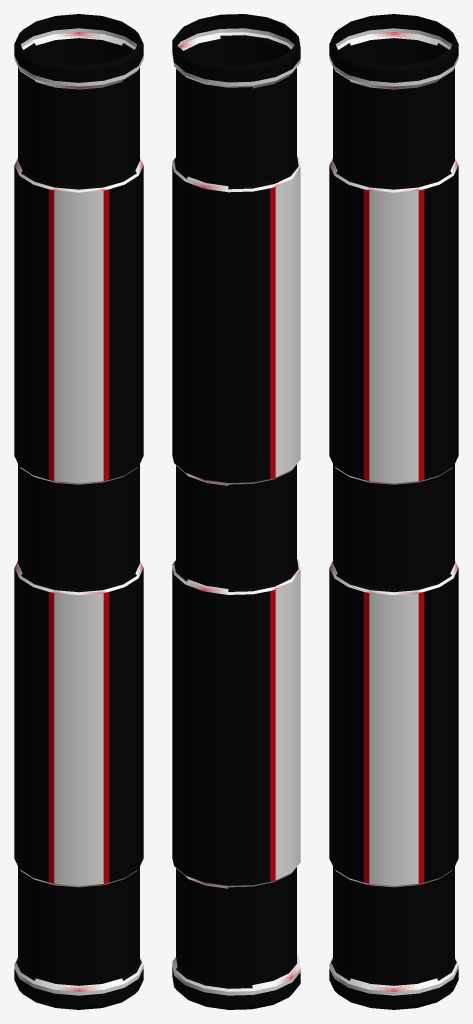
The model's file is part_main-lod0.dae.
3 views of the same model, side by side, from view 1: azimuth 90°, elevation 25°; view 2: azimuth 150°, elevation 25°; view 3: azimuth 270°, elevation 25° (orthographic).
Parts seen in each view (by area): view 1: part_main-lod0Xlod0Xp2genericXgen_p2_hulltexture_02, part_main-lod0Xlod0Xp2genericXgen_p2_hulltexture_02_c, part_main-lod0Xlod0Xp2multimatXp2_multimat_01; view 2: part_main-lod0Xlod0Xp2multimatXp2_multimat_01, part_main-lod0Xlod0Xp2genericXgen_p2_hulltexture_02, part_main-lod0Xlod0Xp2genericXgen_p2_hulltexture_02_c; view 3: part_main-lod0Xlod0Xp2genericXgen_p2_hulltexture_02, part_main-lod0Xlod0Xp2genericXgen_p2_hulltexture_02_c, part_main-lod0Xlod0Xp2multimatXp2_multimat_01.
Part boxes in pixels (<box>): part_main-lod0Xlod0Xp2genericXgen_p2_hulltexture_02: <box>14,14,143,1009</box>; part_main-lod0Xlod0Xp2genericXgen_p2_hulltexture_02_c: <box>14,28,143,995</box>; part_main-lod0Xlod0Xp2multimatXp2_multimat_01: <box>14,165,143,882</box>; part_main-lod0Xlod0Xp2multimatXp2_multimat_01: <box>172,165,270,885</box>; part_main-lod0Xlod0Xp2genericXgen_p2_hulltexture_02: <box>172,14,300,1009</box>; part_main-lod0Xlod0Xp2genericXgen_p2_hulltexture_02_c: <box>172,28,300,995</box>; part_main-lod0Xlod0Xp2genericXgen_p2_hulltexture_02: <box>329,14,458,1009</box>; part_main-lod0Xlod0Xp2genericXgen_p2_hulltexture_02_c: <box>329,28,458,995</box>; part_main-lod0Xlod0Xp2multimatXp2_multimat_01: <box>329,165,458,882</box>.
Bounding box in the file's own units: 4 × 32.29 × 4.
